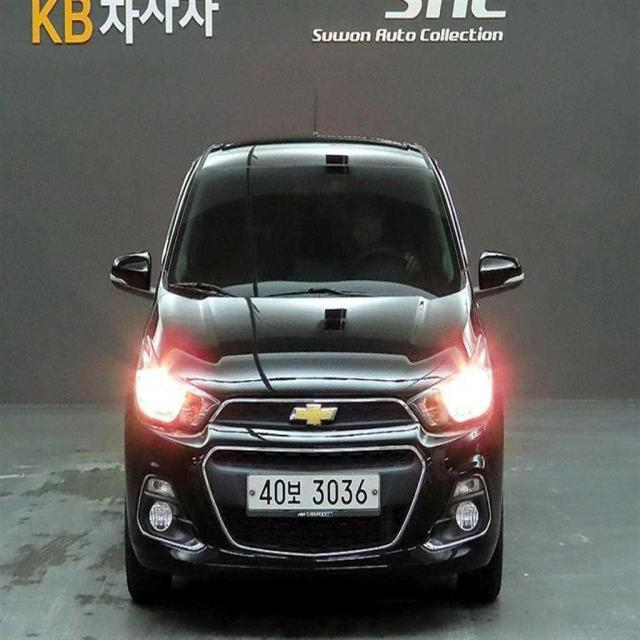car: (108, 124, 524, 614)
illegal_plate: (247, 468, 380, 522)
